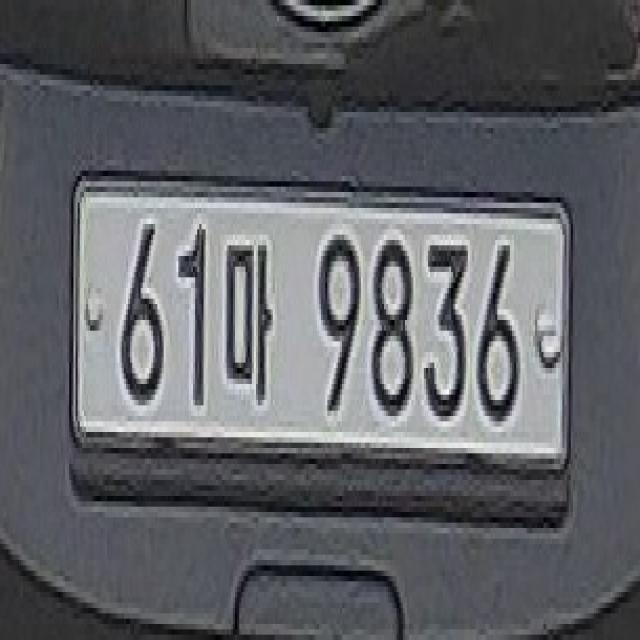1: (172, 218, 214, 424)
3: (420, 235, 470, 425)
6: (116, 211, 168, 427), (474, 233, 524, 431)
8: (367, 231, 418, 427)
9: (309, 222, 364, 428)
license_plate: (64, 160, 584, 546)
ma: (218, 234, 278, 415)
